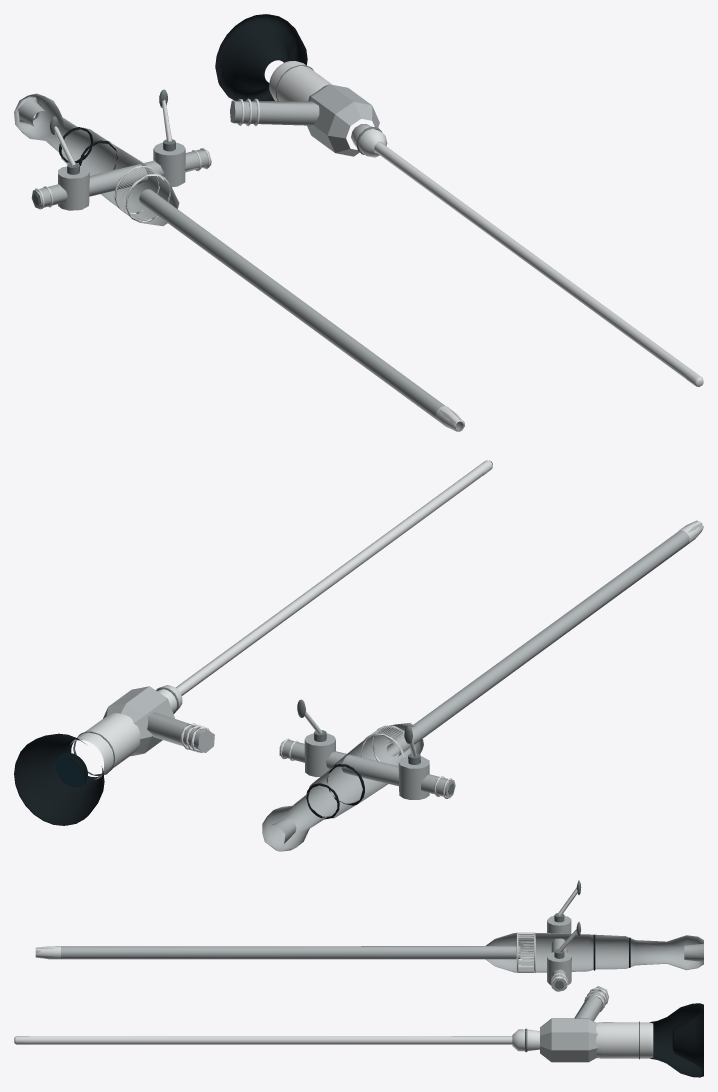
File: endoscope.glb
The picture shows the model from 3 angles, top to bottom: view 1: azimuth 30°, elevation 25°; view 2: azimuth 150°, elevation 25°; view 3: azimuth 270°, elevation 25°; orthographic projection. The views are drawn at different scales.
Visible parts, largest first — view 1: Biportal instruments · satin, Biportal instruments · polished, Biportal instruments · eyecup, Biportal instruments · darkSteel; view 2: Biportal instruments · satin, Biportal instruments · polished, Biportal instruments · eyecup, Biportal instruments · darkSteel, Biportal instruments · optical; view 3: Biportal instruments · satin, Biportal instruments · polished, Biportal instruments · eyecup, Biportal instruments · darkSteel.
Part boxes in pixels (x1=…): Biportal instruments · satin: x1=14, y1=84, x2=464, y2=430; Biportal instruments · polished: x1=35, y1=61, x2=703, y2=431; Biportal instruments · eyecup: x1=59, y1=14, x2=307, y2=169; Biportal instruments · darkSteel: x1=32, y1=65, x2=382, y2=205; Biportal instruments · satin: x1=103, y1=520, x2=702, y2=851; Biportal instruments · polished: x1=70, y1=460, x2=703, y2=798; Biportal instruments · eyecup: x1=14, y1=733, x2=364, y2=825; Biportal instruments · darkSteel: x1=73, y1=687, x2=454, y2=794; Biportal instruments · optical: x1=56, y1=460, x2=492, y2=787; Biportal instruments · satin: x1=35, y1=915, x2=703, y2=1062; Biportal instruments · polished: x1=14, y1=888, x2=653, y2=1058; Biportal instruments · eyecup: x1=593, y1=934, x2=703, y2=1077; Biportal instruments · darkSteel: x1=525, y1=880, x2=639, y2=1059.
Size of the model in its own units: 0.1624 by 0.0492 by 0.3531.
